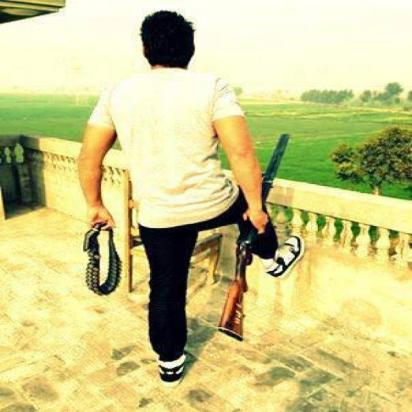Gun: (214, 131, 293, 344)
